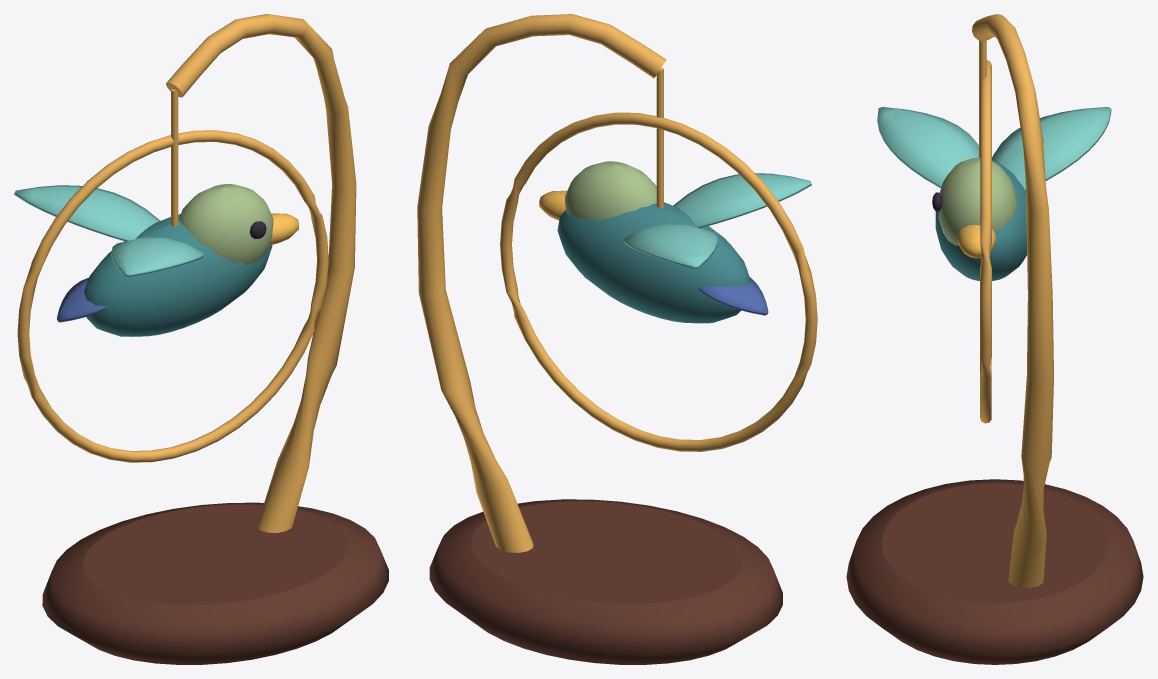
File: atelier_bird.glb
3 renders of one model, left to right at view 1: azimuth 30°, elevation 25°; view 2: azimuth 150°, elevation 25°; view 3: azimuth 270°, elevation 25°, orthographic. The views are drawn at different scales.
Visible parts, largest first — view 1: Golondrina colgante; view 2: Golondrina colgante; view 3: Golondrina colgante.
Part boxes in pixels (x1,y1,x2,y2): Golondrina colgante: [14, 14, 388, 664]; Golondrina colgante: [417, 14, 817, 664]; Golondrina colgante: [846, 14, 1143, 664].
Bounding box in the file's own units: 0.5635 × 0.861 × 0.392.
